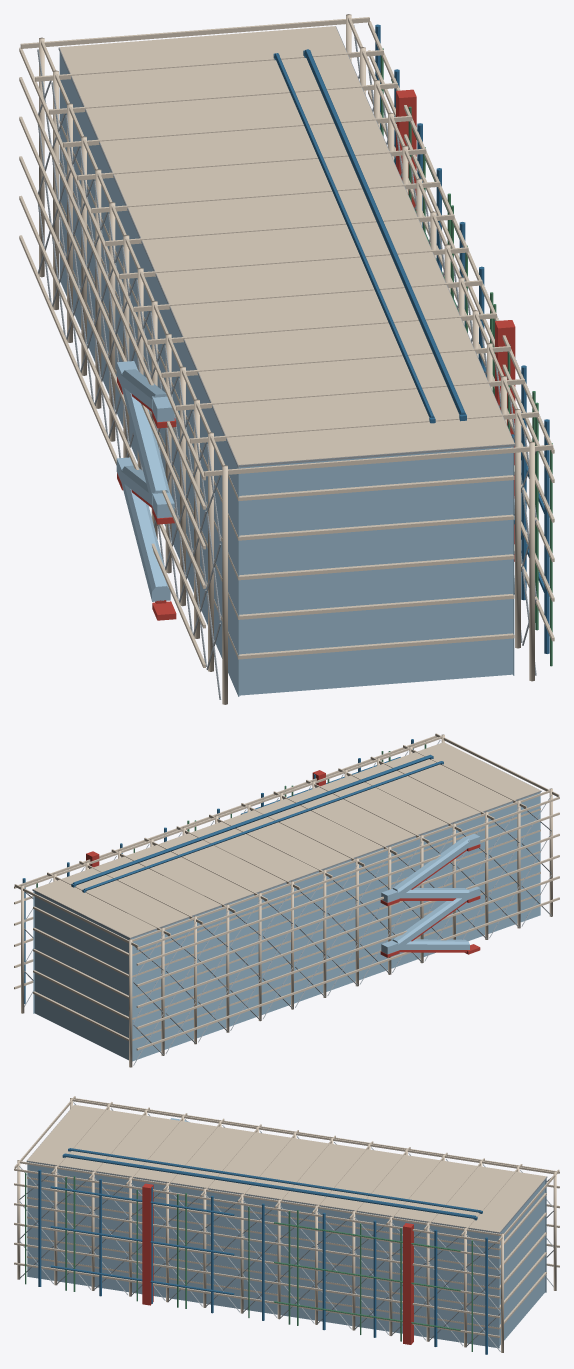
3 renders of one model, top to bottom at view 1: azimuth 30°, elevation 25°; view 2: azimuth 150°, elevation 25°; view 3: azimuth 270°, elevation 25°, orthographic. The views are drawn at different scales.
Parts seen in each view (by area): view 1: trim, glass, roof, stone, terracotta, metal; view 2: trim, glass, roof, stone, terracotta; view 3: trim, glass, stone, roof, metal, terracotta.
Boxes of the visible parts, x1=… form: trim: x1=19, y1=14, x2=554, y2=704; glass: x1=59, y1=52, x2=514, y2=696; roof: x1=37, y1=25, x2=536, y2=699; stone: x1=273, y1=24, x2=549, y2=653; terracotta: x1=117, y1=89, x2=515, y2=620; metal: x1=380, y1=48, x2=552, y2=666; trim: x1=14, y1=733, x2=559, y2=1067; glass: x1=33, y1=792, x2=540, y2=1061; roof: x1=24, y1=739, x2=551, y2=1065; stone: x1=22, y1=739, x2=443, y2=1003; terracotta: x1=86, y1=770, x2=480, y2=957; trim: x1=14, y1=1096, x2=559, y2=1352; glass: x1=27, y1=1118, x2=546, y2=1348; stone: x1=38, y1=1148, x2=487, y2=1354; roof: x1=19, y1=1102, x2=553, y2=1351; metal: x1=25, y1=1172, x2=472, y2=1351; terracotta: x1=142, y1=1183, x2=413, y2=1344.
Size of the model in its own units: 110 by 42.33 by 175.
